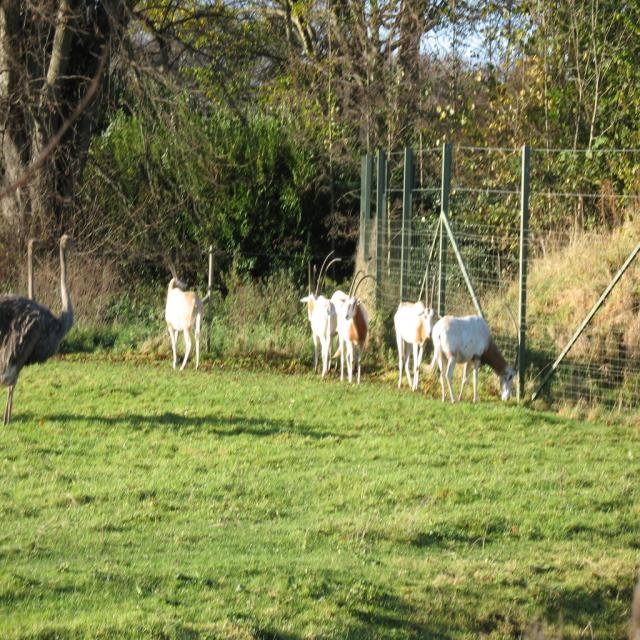Deer: (422, 304, 522, 404), (394, 258, 443, 391), (299, 251, 344, 374), (331, 268, 376, 381), (166, 256, 203, 369)
